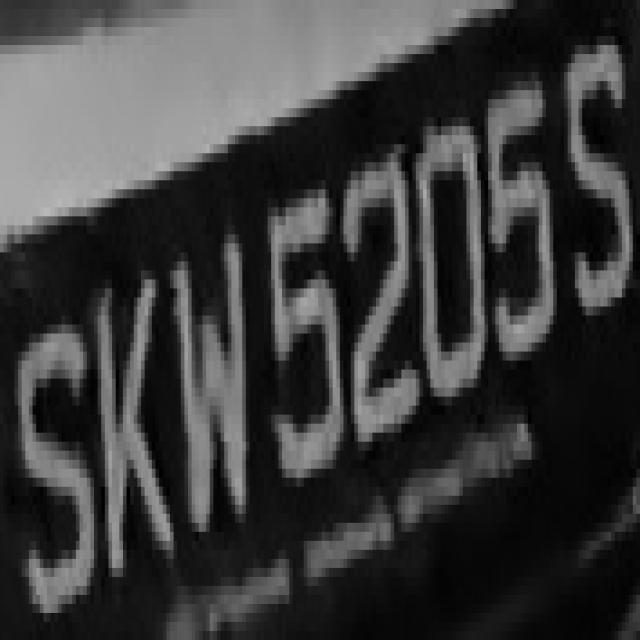0: (408, 90, 492, 406)
2: (336, 126, 412, 469)
5: (473, 72, 568, 388), (260, 171, 347, 514)
K: (83, 243, 174, 586)
S: (8, 279, 90, 622), (557, 36, 640, 334)
W: (162, 198, 256, 568)
